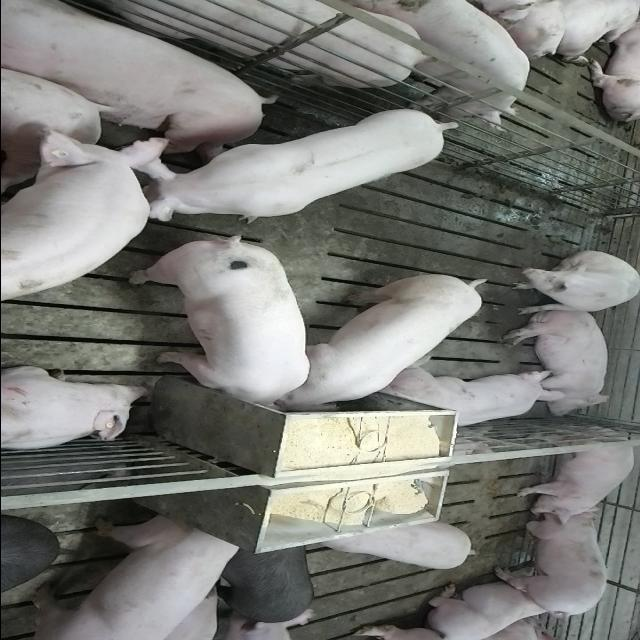Feeding: (124, 243, 311, 418), (276, 269, 496, 412)
Lateral_lying: (0, 3, 275, 156), (500, 306, 614, 417)
Sitting: (502, 251, 638, 315)
Standing: (123, 103, 456, 223), (49, 0, 431, 90), (0, 124, 168, 300), (26, 516, 246, 638), (362, 0, 534, 122), (492, 512, 610, 616), (509, 432, 635, 524), (215, 544, 319, 628), (315, 522, 479, 574)
Sternal_lying: (0, 366, 150, 452), (378, 364, 564, 431), (427, 580, 561, 640)
